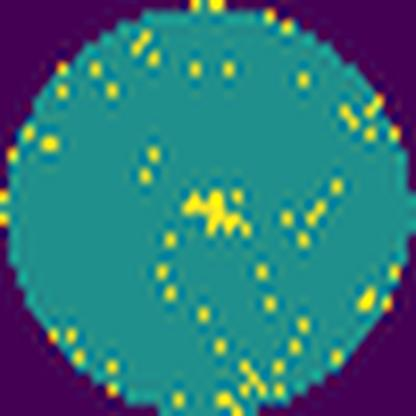Center: (181, 187, 252, 240)
